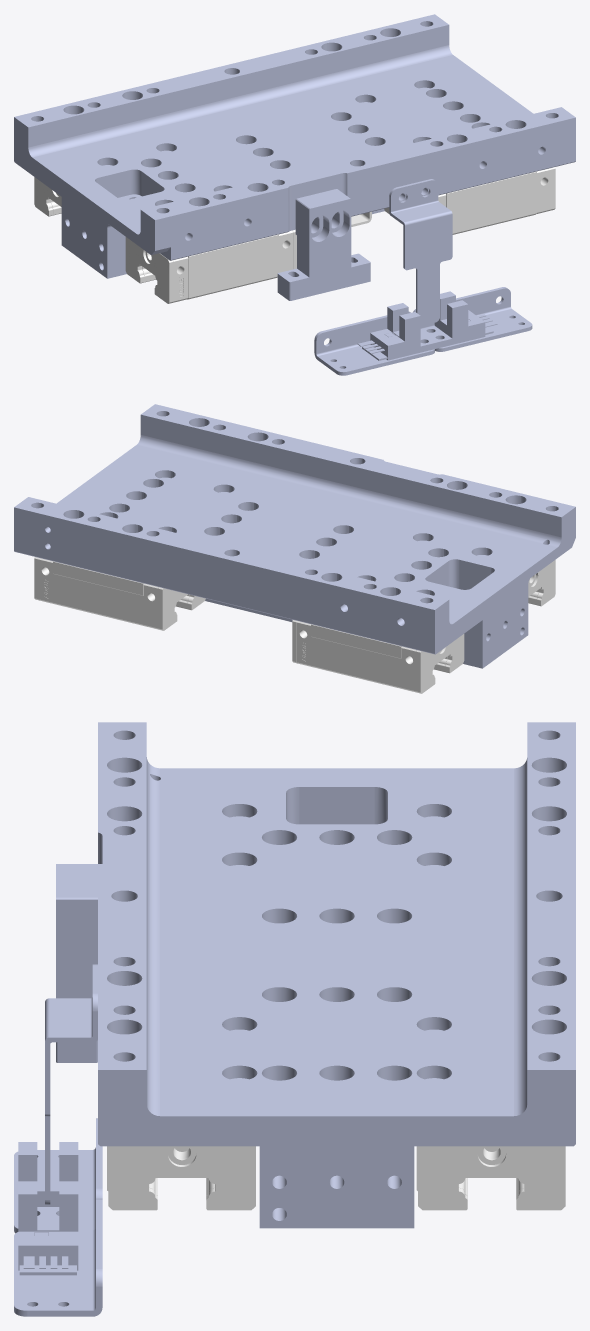
File: MTH-12.glb
The picture shows the model from 3 angles, top to bottom: view 1: azimuth 30°, elevation 25°; view 2: azimuth 150°, elevation 25°; view 3: azimuth 270°, elevation 25°; orthographic projection. The views are drawn at different scales.
Visible parts, largest first — view 1: 106X-12-MTH12NU 滑动座_node, 106X-101-1 读数头连接块_node, 134X-31-1 外置遮挡钣金V1.0_node, nodes[15], nodes[9], 134X-30-1开关安装支架V1.0_node, SH-SL674开关_node_1, 134X-30-1开关安装支架V1.0_node_1, SH-SL674开关_node, nodes[13], nodes[14], nodes[19] (+2 smaller); view 2: 106X-12-MTH12NU 滑动座_node, nodes[21], nodes[3], nodes[19], nodes[1], nodes[13], nodes[2], nodes[20], nodes[4], nodes[22]; view 3: 106X-12-MTH12NU 滑动座_node, nodes[6], nodes[0], 106X-101-1 读数头连接块_node, 134X-30-1开关安装支架V1.0_node_1, SH-SL674开关_node, 134X-31-1 外置遮挡钣金V1.0_node, SH-SL674开关_node_1, 134X-30-1开关安装支架V1.0_node.
Boxes of the visible parts, x1,y1,x2,y2 form: 106X-12-MTH12NU 滑动座_node: (14,14,575,278); 106X-101-1 读数头连接块_node: (277,189,370,300); 134X-31-1 外置遮挡钣金V1.0_node: (389,179,452,325); nodes[15]: (187,234,278,299); nodes[9]: (446,171,536,234); 134X-30-1开关安装支架V1.0_node: (314,311,434,375); SH-SL674开关_node_1: (357,303,436,360); 134X-30-1开关安装支架V1.0_node_1: (413,287,532,351); SH-SL674开关_node: (420,291,497,348); nodes[13]: (125,237,173,303); nodes[14]: (142,254,188,302); nodes[19]: (34,177,61,216); 106X-12-MTH12NU 滑动座_node: (14,404,575,668); nodes[21]: (311,624,401,688); nodes[3]: (53,561,143,625); nodes[19]: (416,634,464,693); nodes[1]: (158,587,205,630); nodes[13]: (528,560,555,606); nodes[2]: (143,583,189,629); nodes[20]: (401,646,447,692); nodes[4]: (38,558,53,603); nodes[22]: (296,621,311,666); 106X-12-MTH12NU 滑动座_node: (98,722,575,1228); nodes[6]: (108,1146,255,1210); nodes[0]: (418,1146,565,1210); 106X-101-1 读数头连接块_node: (56,864,102,1062); 134X-30-1开关安装支架V1.0_node_1: (14,1198,102,1316); SH-SL674开关_node: (18,1181,78,1275); 134X-31-1 外置遮挡钣金V1.0_node: (45,964,97,1204); SH-SL674开关_node_1: (18,1142,78,1217); 134X-30-1开关安装支架V1.0_node: (14,1118,102,1233).
Bounding box in the file's own units: 186 × 75.05 × 127.
